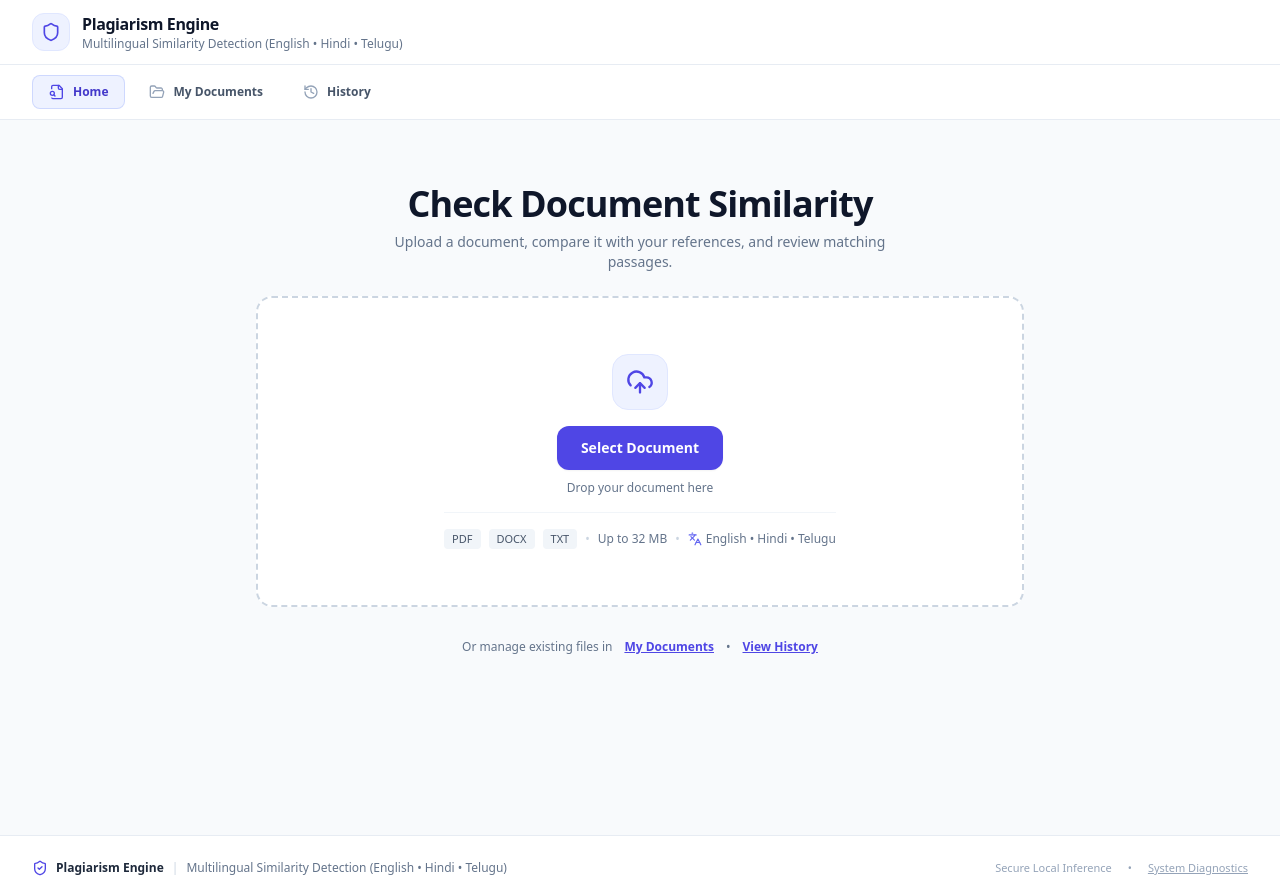
App Component › allows accessing developer diagnostics via footer without polluting user navigation
Click the button "System Diagnostics": (1198, 868) [1148,860,1248,876]
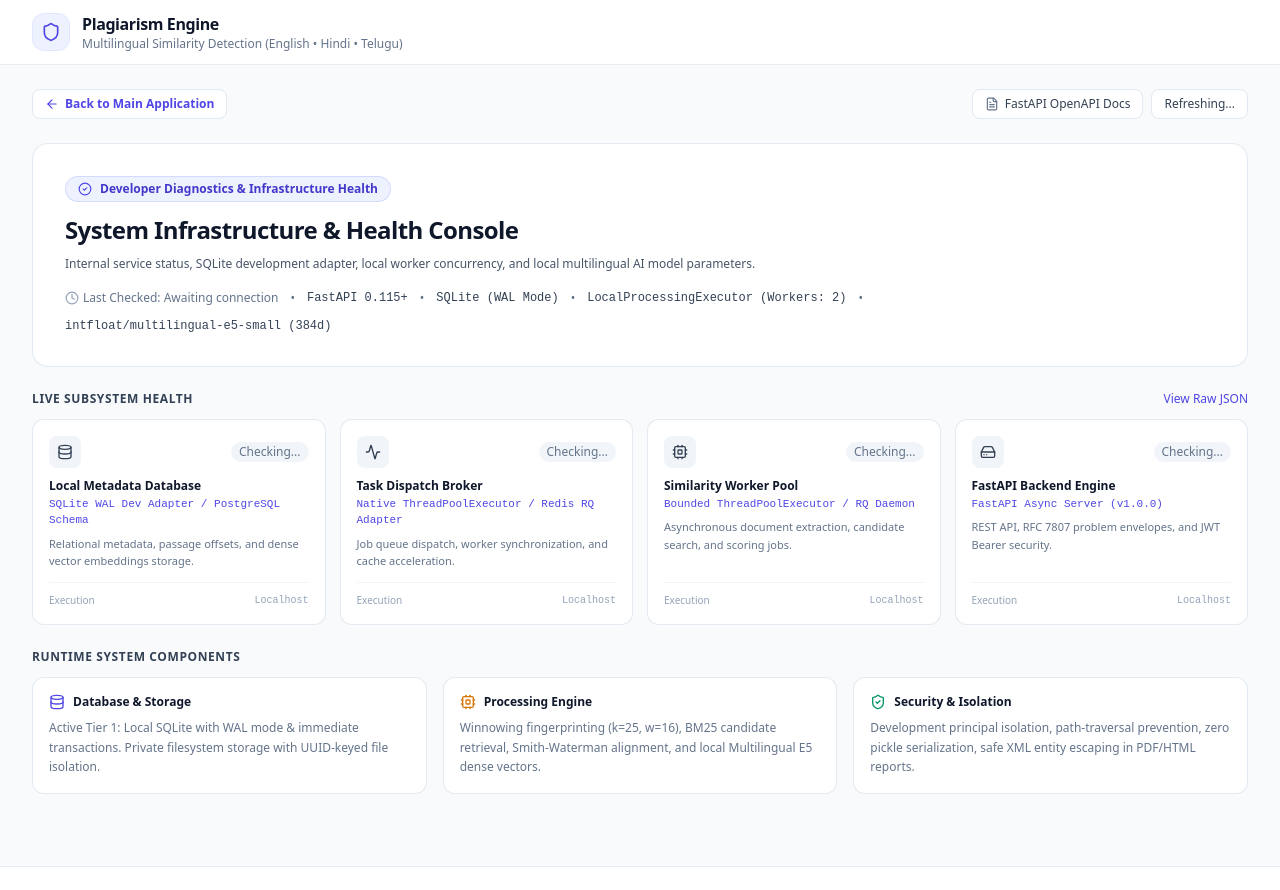
Check: the heading "System Infrastructure & Health Console" is shown, box [65,213,518,246]
Check: the button "Back to Main Application" is shown
// Return to main app
Click the button "Back to Main Application": (130, 104) [32,89,227,119]
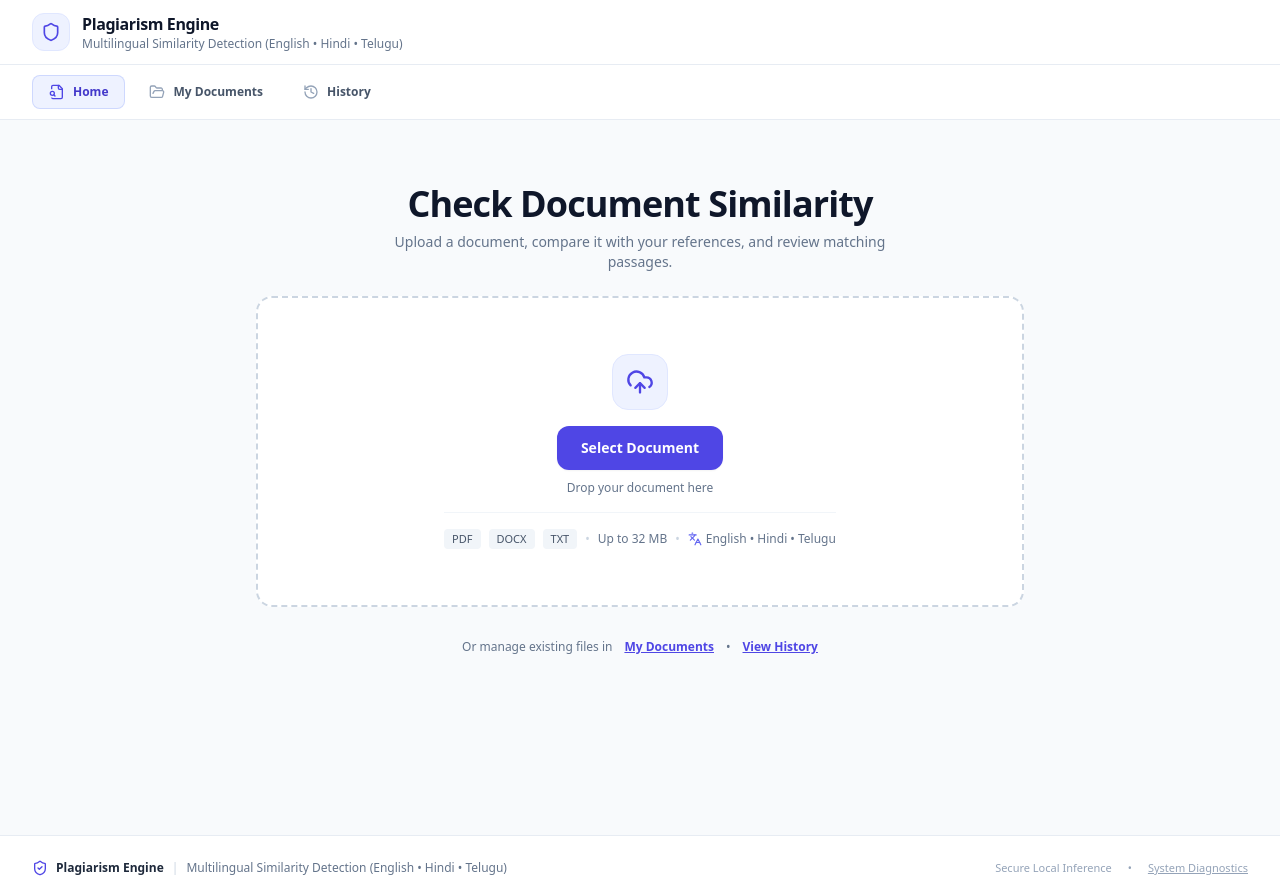
Check: the heading "Check Document Similarity" is shown, box [407,179,873,228]
